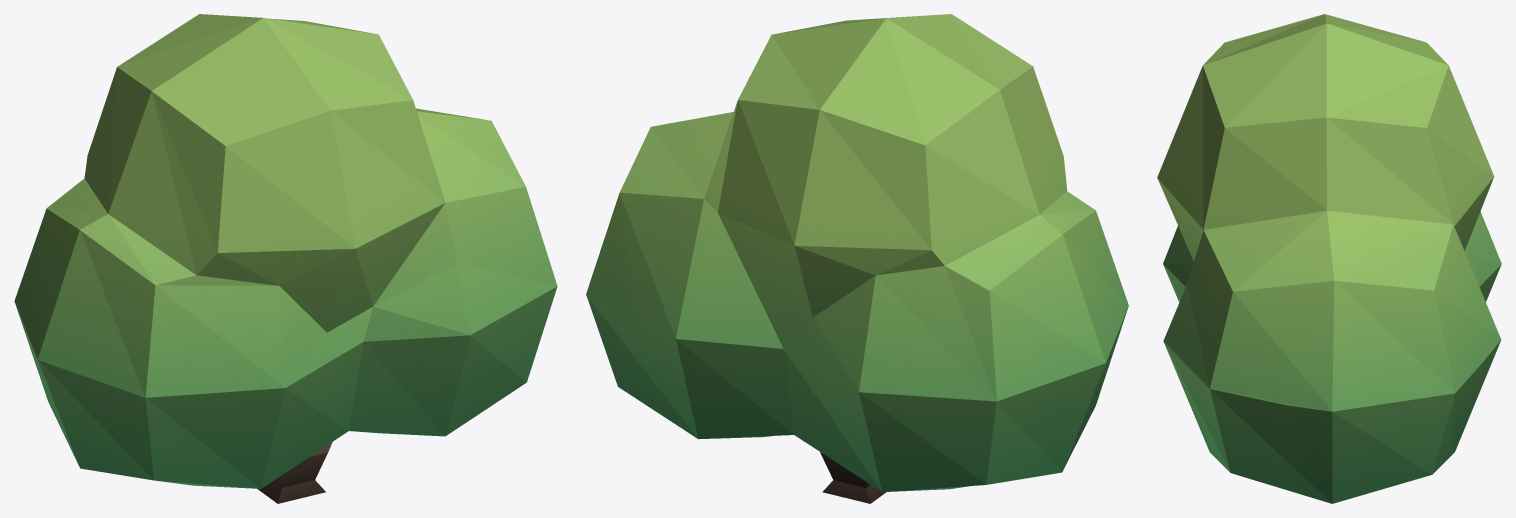
The model's file is Bush_3.fbx.
The picture shows the model from 3 angles, left to right: view 1: azimuth 30°, elevation 25°; view 2: azimuth 150°, elevation 25°; view 3: azimuth 270°, elevation 25°; orthographic projection. The views are drawn at different scales.
Visible parts, largest first — view 1: bush_with_leg; view 2: bush_with_leg; view 3: bush_with_leg.
Part boxes in pixels (<box>): bush_with_leg: <box>14,14,557,503</box>; bush_with_leg: <box>586,14,1128,503</box>; bush_with_leg: <box>1157,14,1501,503</box>.
Bounding box in the file's own units: 0.6171 × 0.8835 × 0.9615.
